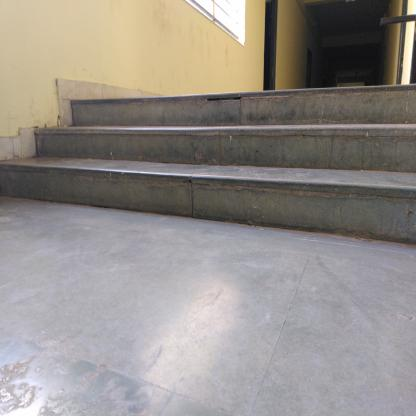stairs: (75, 91, 416, 230)
